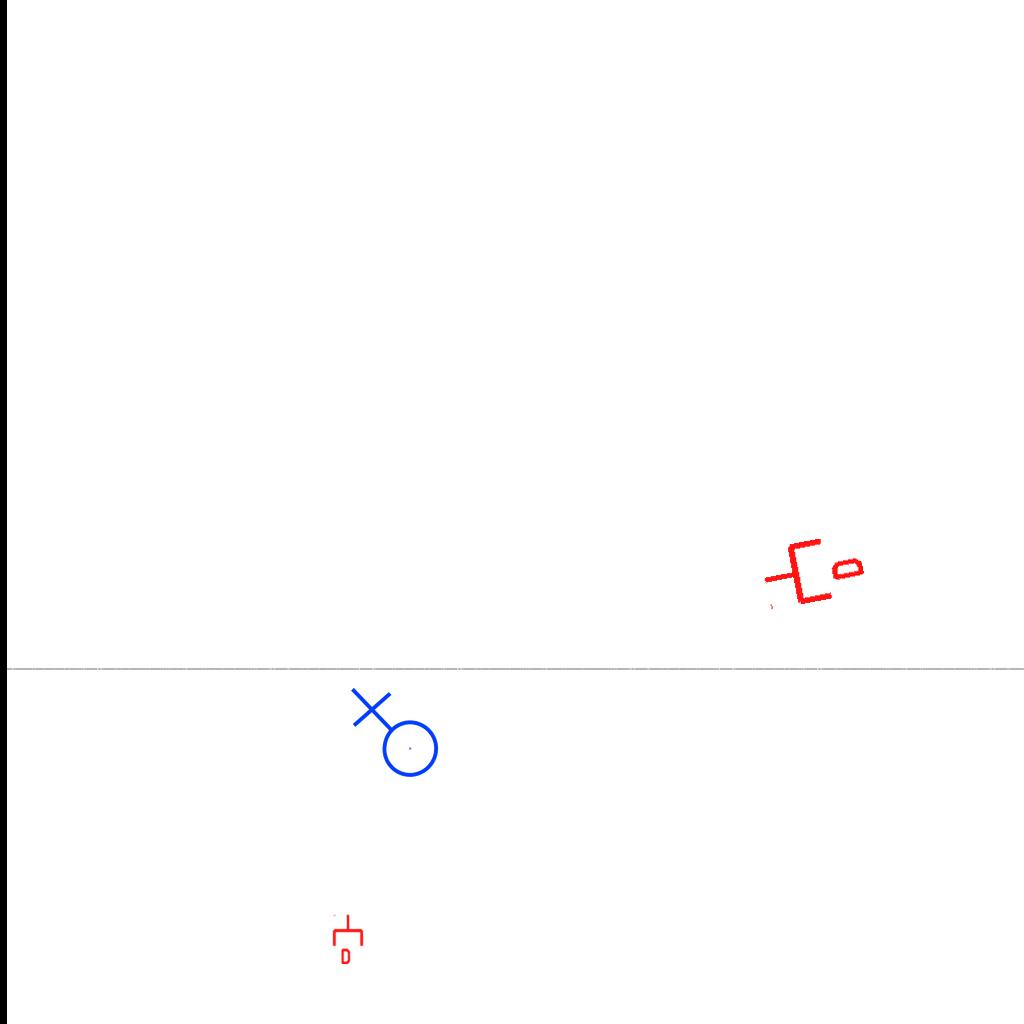Datenanschluss_einfach: (756, 527, 869, 615), (331, 914, 365, 964)
Elektroanschluss_allgemein_230V_Geraeteanschlussdose_230V: (346, 687, 440, 786)
